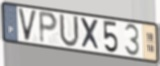3: (123, 23, 141, 58)
5: (103, 19, 119, 55)
P: (38, 9, 60, 46)
U: (58, 12, 81, 50)
V: (17, 7, 39, 43)
X: (79, 17, 102, 53)
